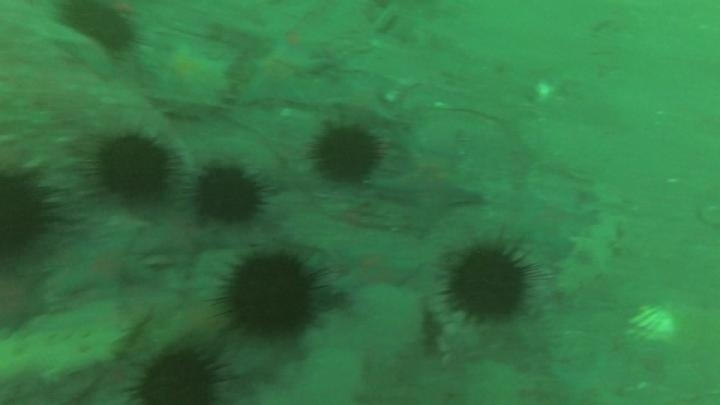echinus: (222, 254, 320, 338), (444, 243, 533, 324), (0, 162, 64, 265), (93, 134, 175, 204), (131, 347, 226, 404), (310, 122, 385, 185), (192, 164, 267, 227), (59, 2, 138, 55)
holothurian: (552, 213, 625, 300), (202, 18, 270, 53)
scallop: (626, 302, 679, 345)
starfish: (369, 131, 486, 234), (51, 228, 152, 301), (144, 40, 234, 111), (508, 183, 596, 255), (239, 40, 326, 109), (137, 206, 223, 268), (331, 239, 421, 298), (548, 348, 632, 405), (0, 262, 52, 336), (267, 24, 327, 66)
